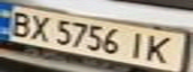5: (84, 21, 106, 53), (51, 17, 75, 46)
6: (103, 26, 127, 56)
7: (66, 20, 87, 50)
B: (3, 8, 36, 38)
I: (124, 29, 151, 61)
K: (142, 33, 181, 65)
X: (24, 11, 54, 43)
